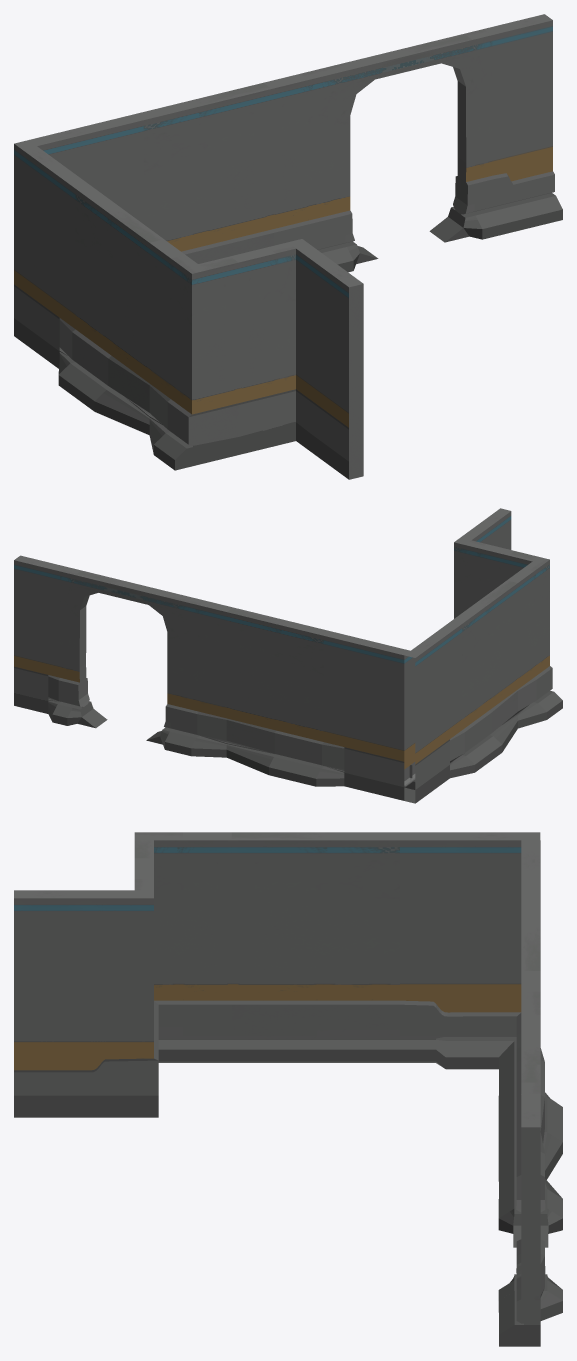
The model's file is Wall_room_hospital.fbx.
3 views of the same model, one above another, from view 1: azimuth 30°, elevation 25°; view 2: azimuth 150°, elevation 25°; view 3: azimuth 270°, elevation 25° (orthographic). The views are drawn at different scales.
Parts seen in each view (by area): view 1: Wall_room_hospital1; view 2: Wall_room_hospital1; view 3: Wall_room_hospital1.
Boxes of the visible parts, x1,y1,x2,y2 form: Wall_room_hospital1: (14,14,562,479); Wall_room_hospital1: (14,508,562,803); Wall_room_hospital1: (14,832,562,1346).
Size of the model in its own units: 743 by 250 by 566.
